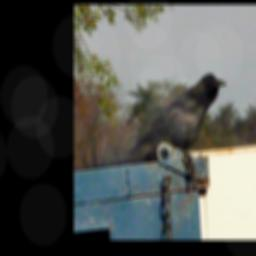Crow: (130, 72, 228, 160)
